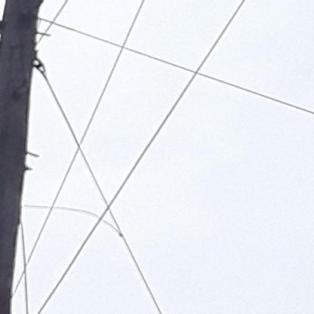Poste: (0, 0, 55, 314)
